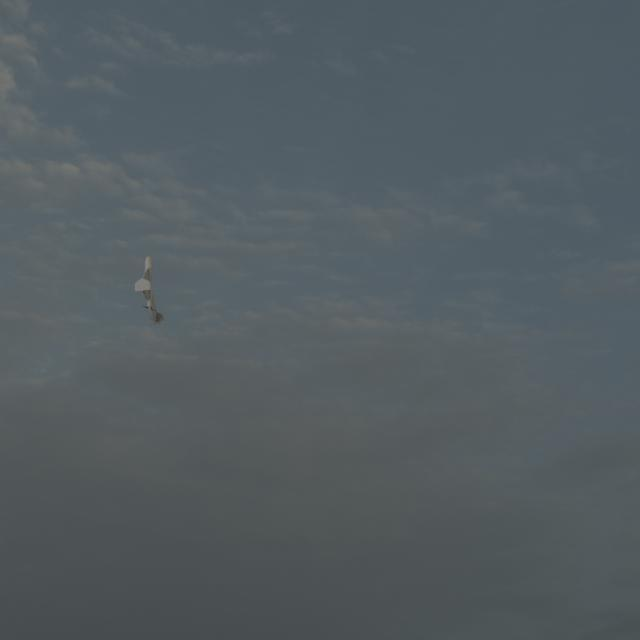Airaplan: (135, 256, 164, 325)
